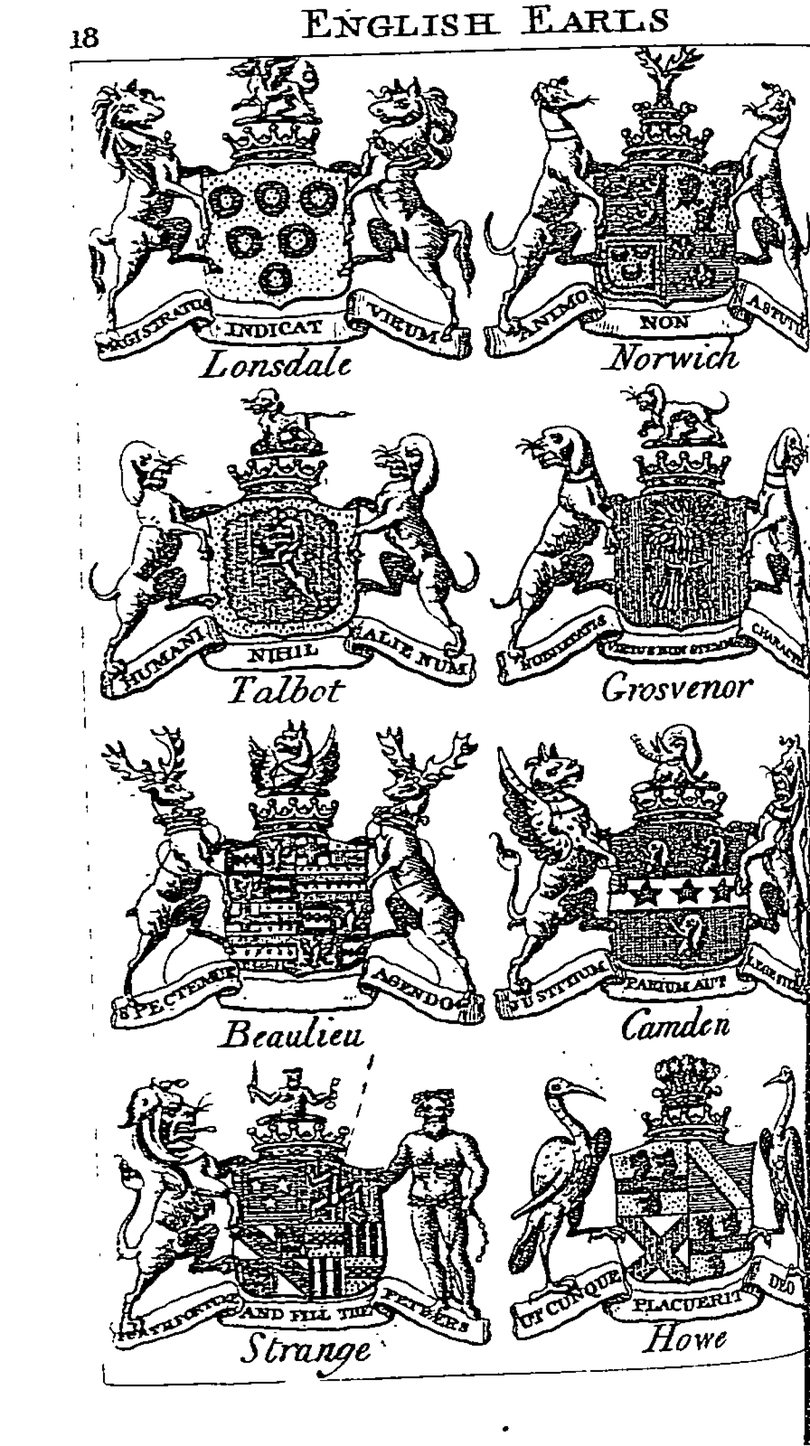coat_of_arms: (93, 710, 487, 1058), (83, 64, 483, 387), (84, 391, 488, 707), (97, 1059, 506, 1371), (487, 711, 810, 1055), (485, 50, 810, 380), (487, 386, 810, 706), (507, 1047, 810, 1355)
